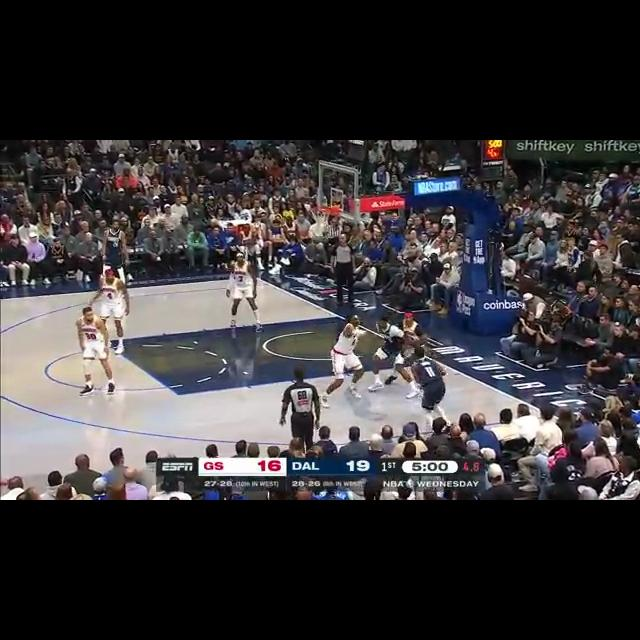Team-1-Player: (374, 312, 418, 400), (410, 344, 454, 426), (102, 219, 132, 279)
Team-2-Player: (316, 312, 370, 402), (72, 306, 120, 396), (88, 268, 134, 344), (224, 252, 266, 334), (400, 310, 430, 342)
